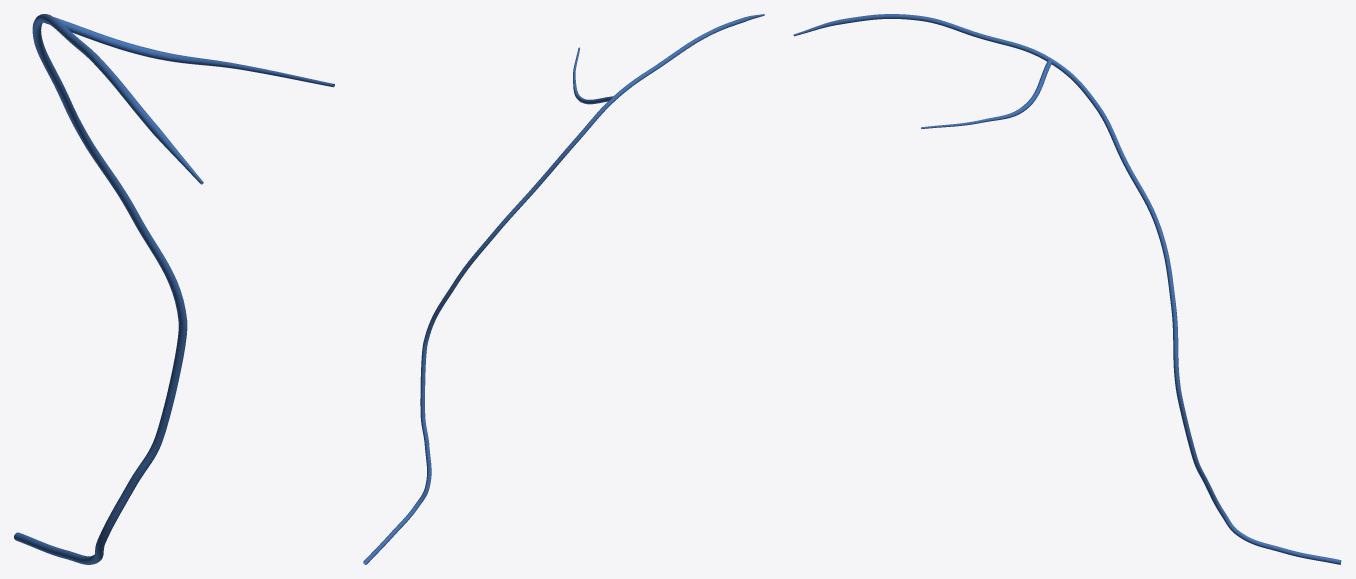
3 renders of one model, left to right at view 1: azimuth 30°, elevation 25°; view 2: azimuth 150°, elevation 25°; view 3: azimuth 270°, elevation 25°, orthographic. The views are drawn at different scales.
Visible parts, largest first — view 1: 左侧枕静脉; view 2: 左侧枕静脉; view 3: 左侧枕静脉.
Boxes of the visible parts, x1=… form: 左侧枕静脉: x1=14, y1=14, x2=334, y2=564; 左侧枕静脉: x1=363, y1=14, x2=764, y2=564; 左侧枕静脉: x1=793, y1=14, x2=1341, y2=564.
Size of the model in its own units: 0.0633 by 0.1513 by 0.1598.
